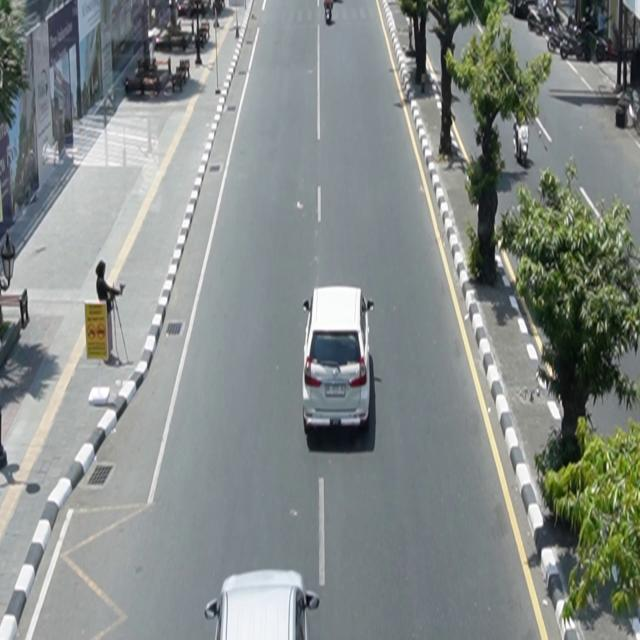car: (303, 285, 375, 436), (205, 570, 321, 640), (514, 119, 530, 167)
